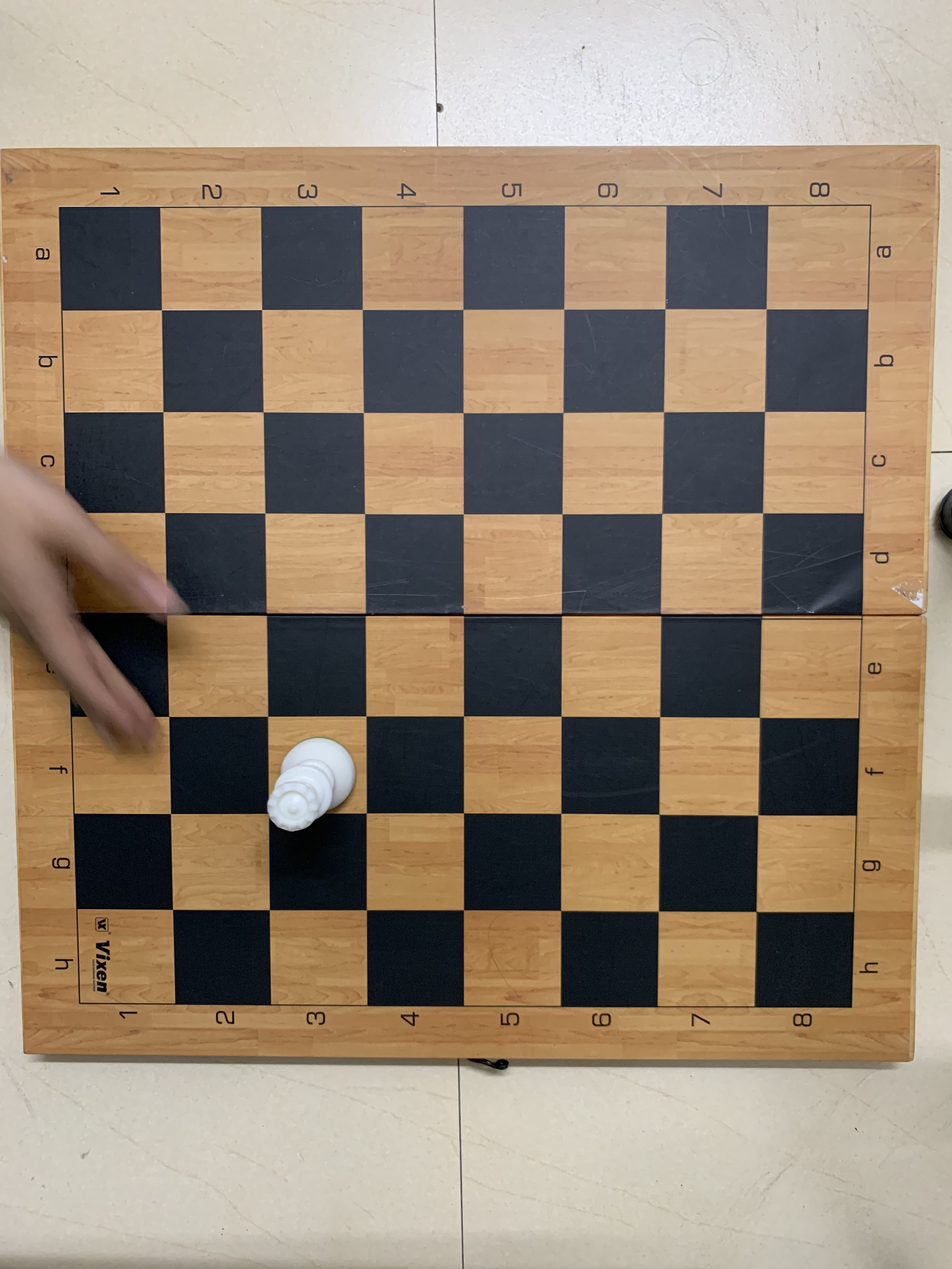white_queen: (263, 714, 368, 835)
